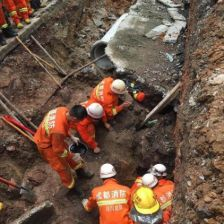head: (66, 103, 88, 127)
helmet: (132, 187, 160, 217), (97, 161, 121, 184), (138, 171, 163, 193), (110, 75, 129, 99), (147, 162, 170, 181), (86, 100, 105, 122)
